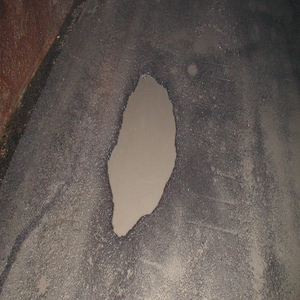pothole: (103, 69, 182, 238)
